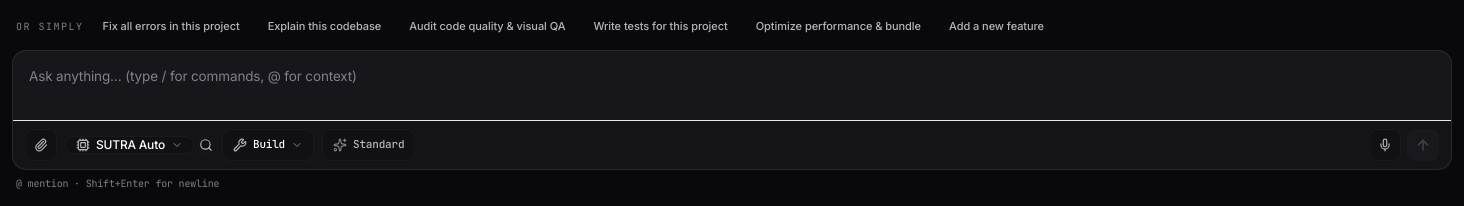
Test case: ManagerComposer › fills the composer from a quick-action chip without auto-sending
Click the button "Explain this codebase": (324, 26) x1=257 y1=12 x2=392 y2=40
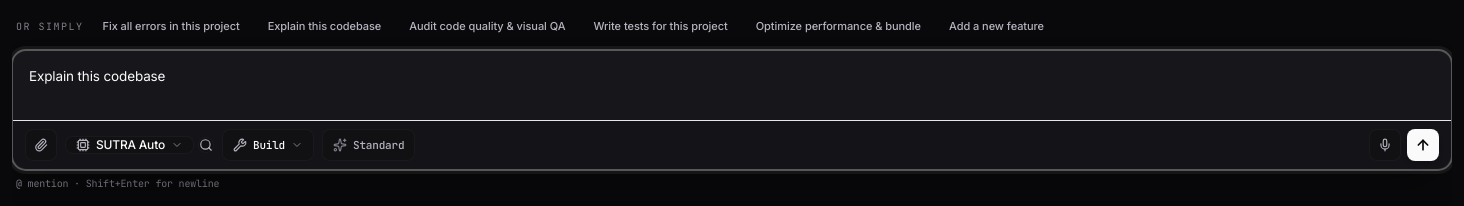
Result: the text box named "message astra" holds "Explain this codebase" at x1=13 y1=51 x2=1451 y2=114
